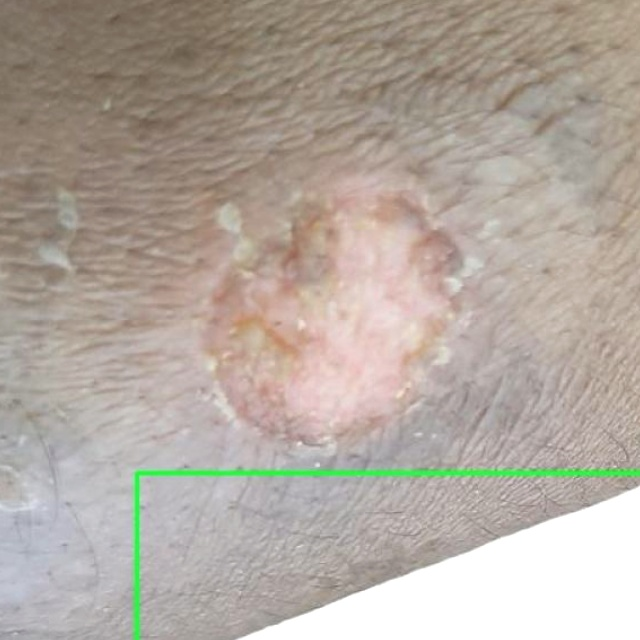Contact Dermatitis: (136, 473, 639, 639)
